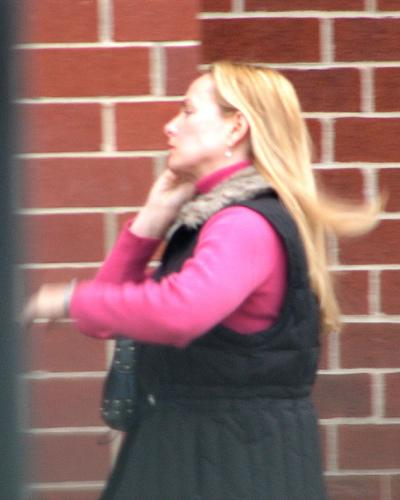person: (25, 55, 383, 500)
